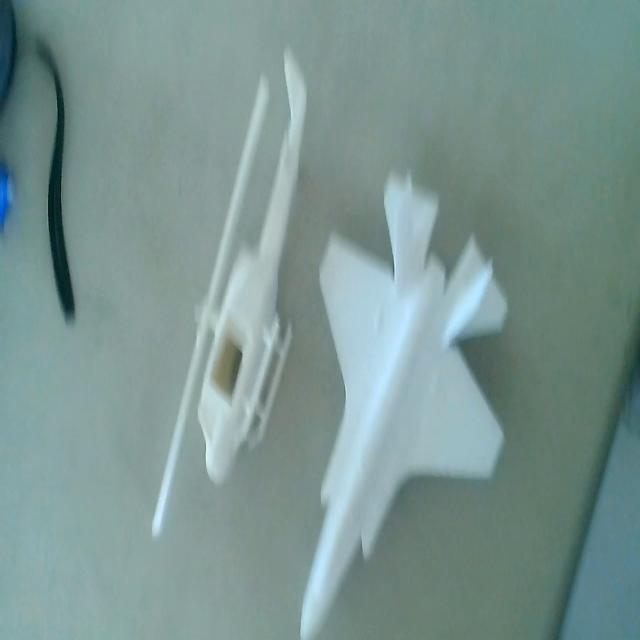Helicopter: (152, 44, 305, 552)
Jet: (301, 169, 509, 640)
